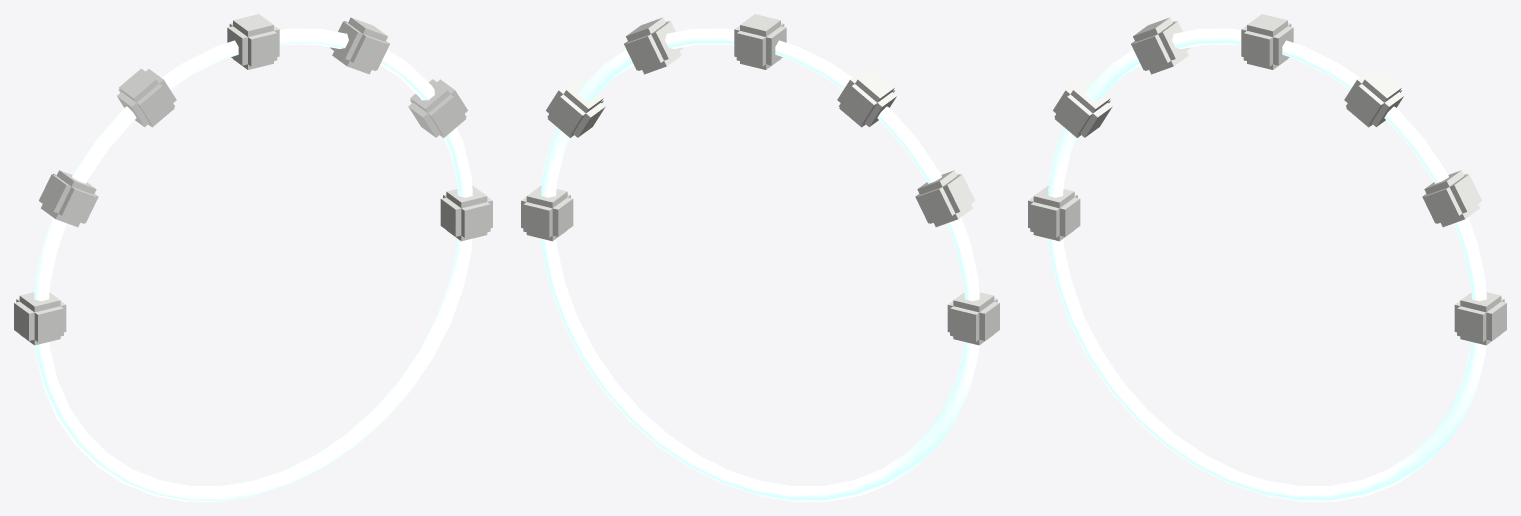
Rendered from build_safe_arch.glb.
3 renders of one model, left to right at view 1: azimuth 30°, elevation 25°; view 2: azimuth 150°, elevation 25°; view 3: azimuth 330°, elevation 25°, orthographic.
Visible parts, largest first — view 1: torus; view 2: torus; view 3: torus.
Part boxes in pixels (box(x1,y1,x2,y2)): torus: box(14, 14, 492, 501); torus: box(521, 14, 999, 501); torus: box(1028, 14, 1506, 501).
Bounding box in the file's own units: 5 × 4.88 × 0.4.
